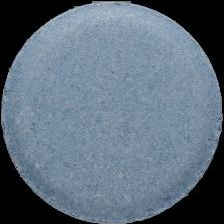0093-0292: (0, 0, 224, 224)
